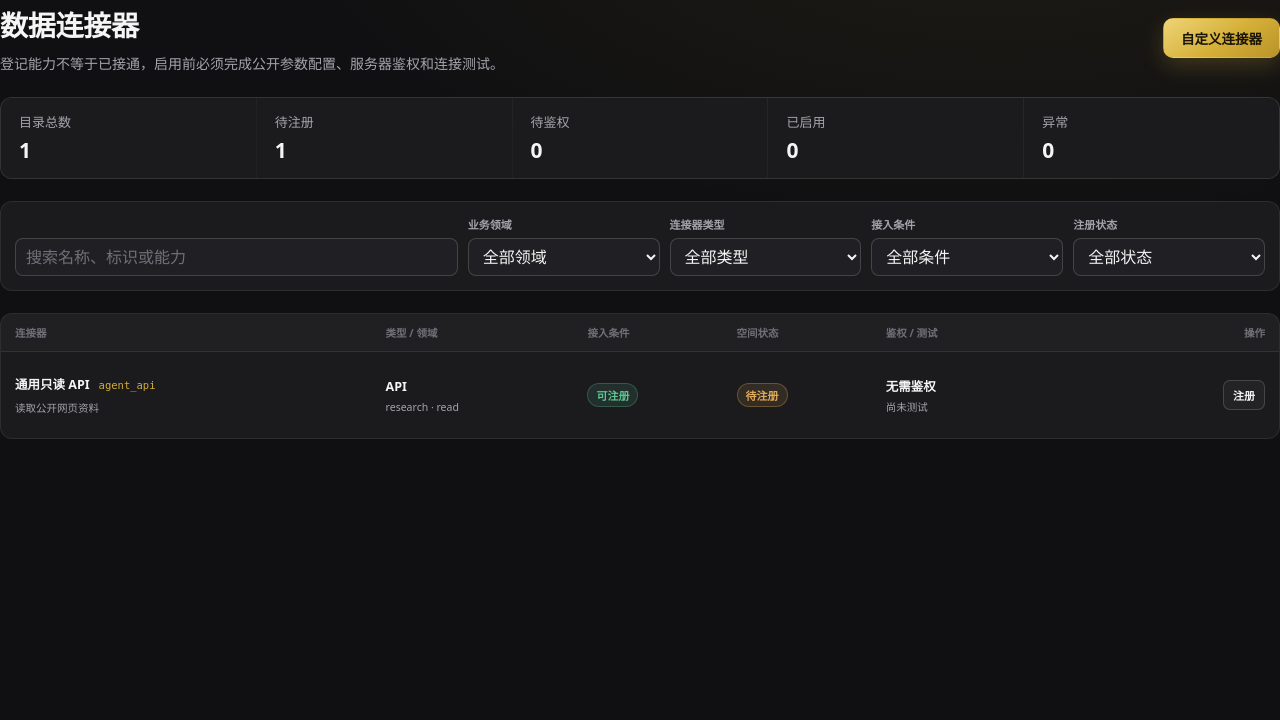
Test: DataConnectorRegistry › preserves boolean schema values instead of submitting string flags
Later steps or results of the test are not shown.
Click the button "注册": [1244, 395] box [1223,380,1265,410]
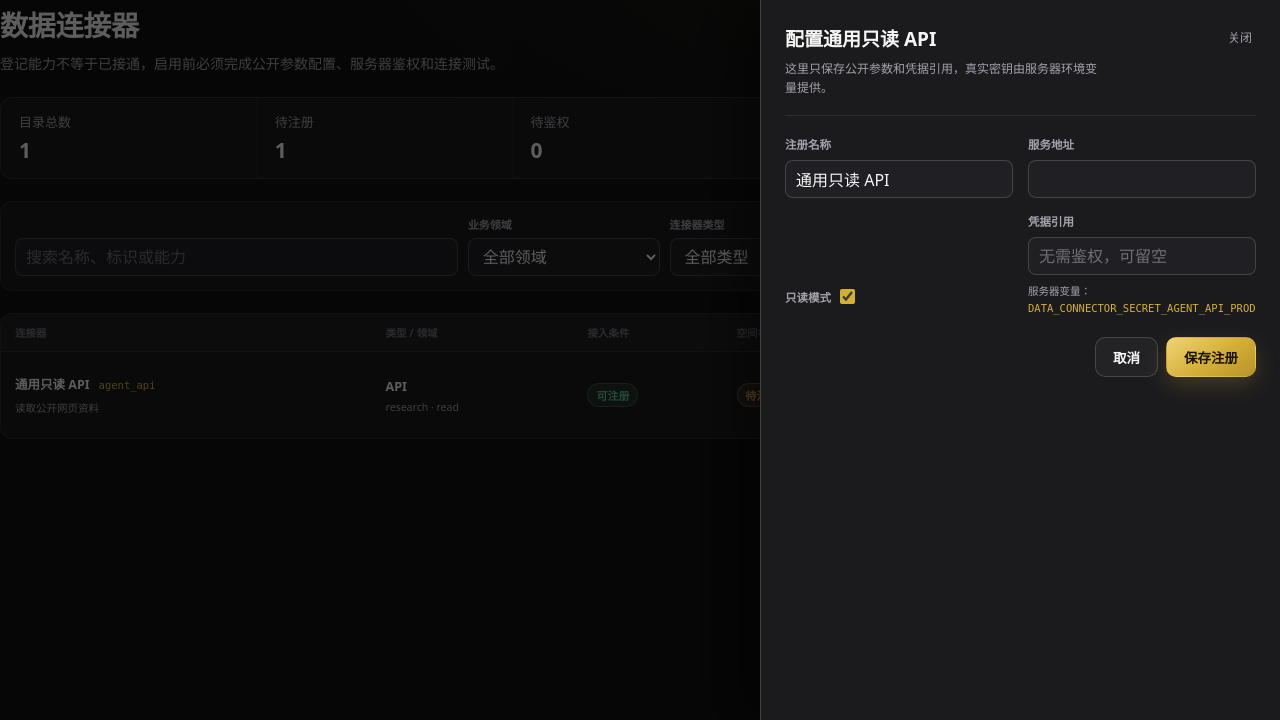
expect the checkbox labelled "只读模式" is checked: met, box [840,289,855,304]
